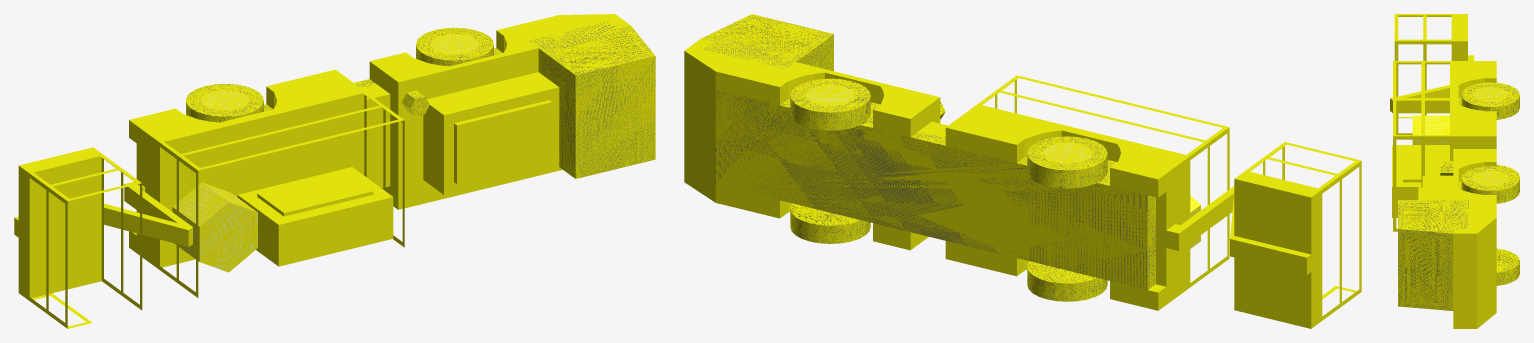
Rendered from anfo_charger_1_state_2_1.dae.
3 renders of one model, left to right at view 1: azimuth 30°, elevation 25°; view 2: azimuth 150°, elevation 25°; view 3: azimuth 270°, elevation 25°, orthographic. The views are drawn at different scales.
Parts seen in each view (by area): view 1: coords_ME_ID63_MA_material, coords_ME_ID107_MA_material, coords_ME_ID12_MA_material_0, coords_ME_ID121_MA_material, coords_ME_ID183_MA_material, coords_ME_ID99_MA_material, coords_ME_ID115_MA_material, coords_ME_ID4_MA_material, coords_ME_ID107_MA_material_5, coords_ME_ID151_MA_material, coords_ME_ID81_MA_material, coords_ME_ID165_MA_material (+7 smaller); view 2: coords_ME_ID41_MA_material, coords_ME_ID63_MA_material, coords_ME_ID41_MA_material_2, coords_ME_ID12_MA_material_0, coords_ME_ID115_MA_material, coords_ME_ID107_MA_material, coords_ME_ID35_MA_material, coords_ME_ID49_MA_material, coords_ME_ID4_MA_material, coords_ME_ID29_MA_material, coords_ME_ID21_MA_material, coords_ME_ID165_MA_material (+9 smaller); view 3: coords_ME_ID63_MA_material, coords_ME_ID107_MA_material, coords_ME_ID171_MA_material, coords_ME_ID115_MA_material, coords_ME_ID4_MA_material, coords_ME_ID49_MA_material, coords_ME_ID35_MA_material, coords_ME_ID151_MA_material, coords_ME_ID107_MA_material_5, coords_ME_ID121_MA_material, coords_ME_ID165_MA_material, coords_ME_ID99_MA_material (+14 smaller).
Boxes of the visible parts, box(x1,y1,x2,y2) form: coords_ME_ID63_MA_material: box(124, 14, 630, 268); coords_ME_ID107_MA_material: box(528, 21, 655, 178); coords_ME_ID12_MA_material_0: box(18, 147, 101, 298); coords_ME_ID121_MA_material: box(237, 167, 393, 266); coords_ME_ID183_MA_material: box(454, 100, 551, 184); coords_ME_ID99_MA_material: box(172, 182, 257, 272); coords_ME_ID115_MA_material: box(157, 90, 404, 297); coords_ME_ID4_MA_material: box(27, 153, 142, 328); coords_ME_ID107_MA_material_5: box(530, 21, 655, 177); coords_ME_ID151_MA_material: box(257, 172, 373, 216); coords_ME_ID81_MA_material: box(104, 203, 192, 246); coords_ME_ID165_MA_material: box(555, 34, 643, 69); coords_ME_ID41_MA_material: box(715, 90, 1147, 289); coords_ME_ID63_MA_material: box(684, 39, 1234, 310); coords_ME_ID41_MA_material_2: box(715, 91, 1147, 289); coords_ME_ID12_MA_material_0: box(1234, 172, 1319, 328); coords_ME_ID115_MA_material: box(975, 75, 1229, 288); coords_ME_ID107_MA_material: box(701, 14, 833, 71); coords_ME_ID35_MA_material: box(790, 78, 870, 130); coords_ME_ID49_MA_material: box(1027, 136, 1107, 188); coords_ME_ID4_MA_material: box(1243, 142, 1361, 322); coords_ME_ID29_MA_material: box(790, 203, 870, 243); coords_ME_ID21_MA_material: box(1027, 261, 1107, 301); coords_ME_ID165_MA_material: box(720, 19, 820, 53); coords_ME_ID63_MA_material: box(1396, 61, 1496, 328); coords_ME_ID107_MA_material: box(1398, 200, 1468, 310); coords_ME_ID171_MA_material: box(1405, 236, 1441, 303); coords_ME_ID115_MA_material: box(1393, 61, 1453, 231); coords_ME_ID4_MA_material: box(1394, 14, 1455, 134); coords_ME_ID49_MA_material: box(1461, 82, 1519, 119); coords_ME_ID35_MA_material: box(1461, 166, 1519, 203); coords_ME_ID151_MA_material: box(1403, 147, 1442, 182); coords_ME_ID107_MA_material_5: box(1398, 200, 1468, 310); coords_ME_ID121_MA_material: box(1392, 145, 1449, 217); coords_ME_ID165_MA_material: box(1405, 203, 1441, 229); coords_ME_ID99_MA_material: box(1412, 115, 1449, 144).
Size of the model in its own units: 120 by 24.36 by 30.07.
